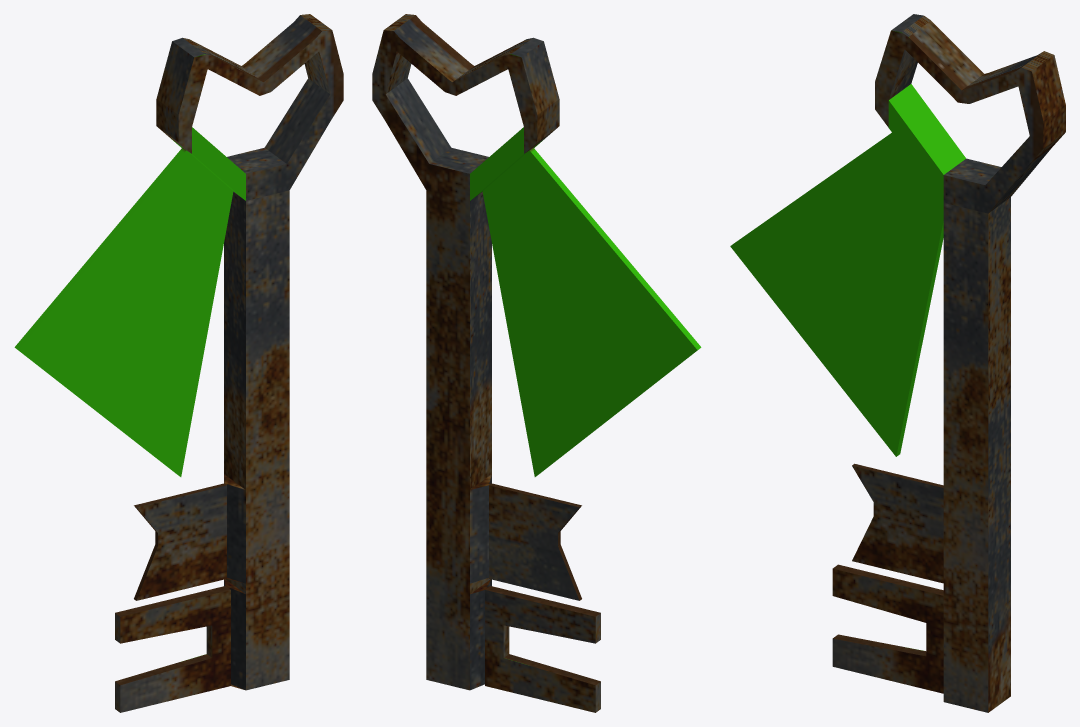
Rendered from key02.fbx.
3 views of the same model, side by side, from view 1: azimuth 30°, elevation 25°; view 2: azimuth 150°, elevation 25°; view 3: azimuth 330°, elevation 25° (orthographic). The views are drawn at different scales.
Parts seen in each view (by area): view 1: Cube; view 2: Cube; view 3: Cube.
Boxes of the visible parts, box(x1,y1,x2,y2) form: Cube: box(14, 14, 343, 712); Cube: box(372, 14, 701, 712); Cube: box(730, 14, 1065, 712).
Size of the model in its own units: 13.76 by 26.91 by 1.67.
1 material, 1 textured.
